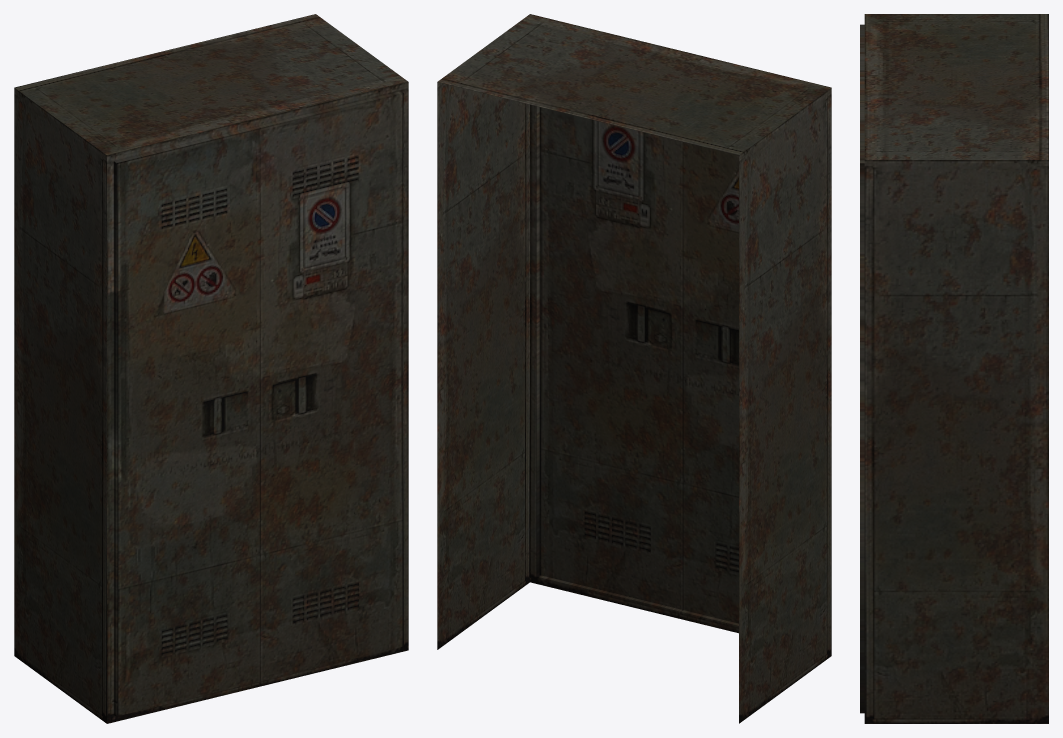
Rendered from electrical_equipment_2.dae.
3 views of the same model, side by side, from view 1: azimuth 30°, elevation 25°; view 2: azimuth 150°, elevation 25°; view 3: azimuth 270°, elevation 25° (orthographic).
Parts seen in each view (by area): view 1: electrical_equipment_2; view 2: electrical_equipment_2; view 3: electrical_equipment_2.
Boxes of the visible parts, left/top/right/bottom form: electrical_equipment_2: left=14, top=14, right=408, bottom=723; electrical_equipment_2: left=437, top=14, right=831, bottom=723; electrical_equipment_2: left=860, top=14, right=1048, bottom=723.
Size of the model in its own units: 1.5 by 0.82 by 2.7.
Materials: 1 (1 with a texture image).
